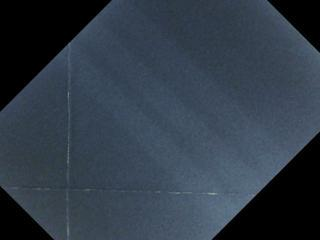crack: (0, 180, 256, 203), (61, 41, 78, 240)
